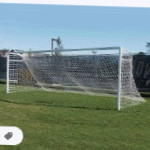goals: (4, 44, 146, 113)
